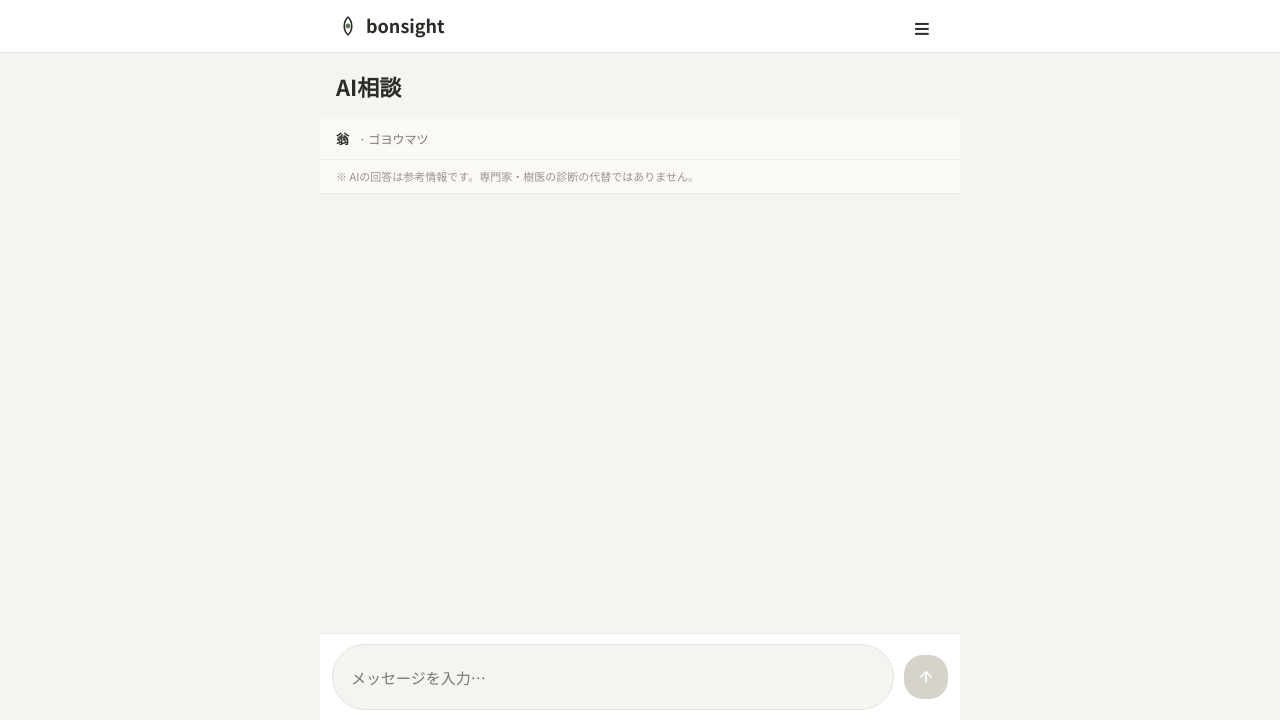
Test: S6AiChat › メッセージ送信 → sendChat が呼ばれ AI 吹き出しが追加される
Type "テスト質問" into the field with placeholder "メッセージを入力…" at [613, 677], box [349,655,877,699]
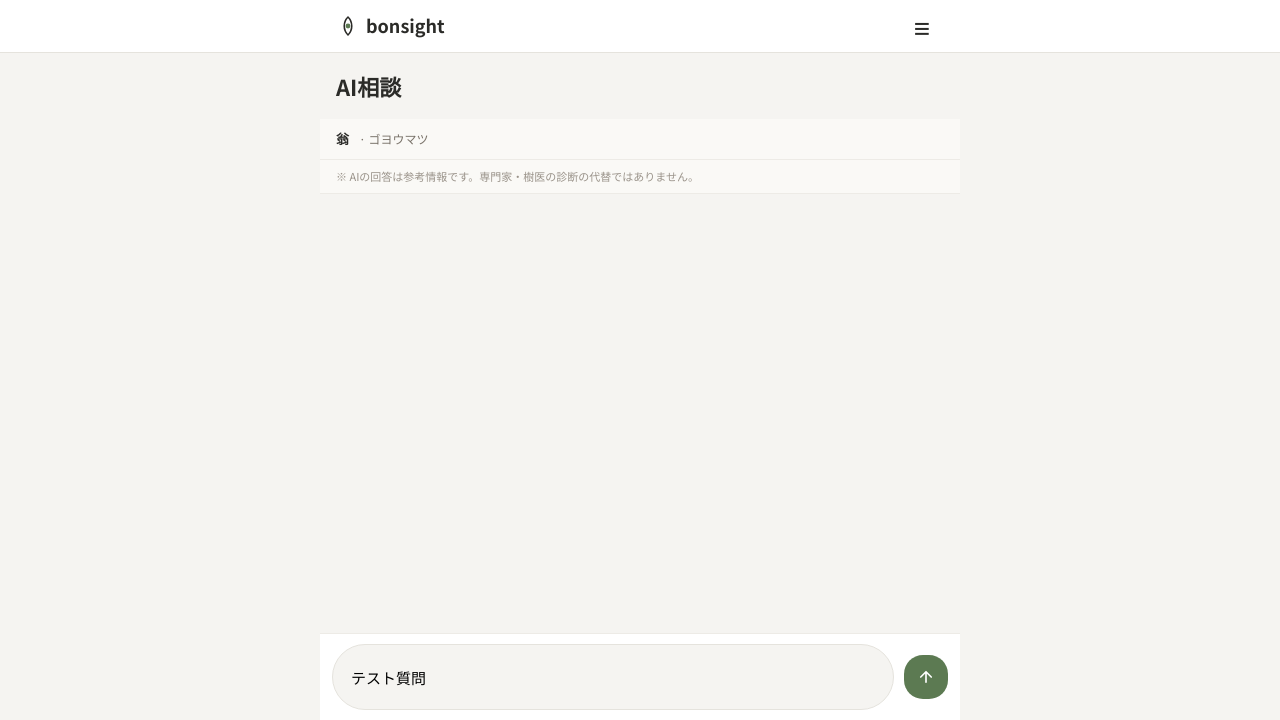
Click the button named "送信" at [926, 677], box [904,655,948,699]
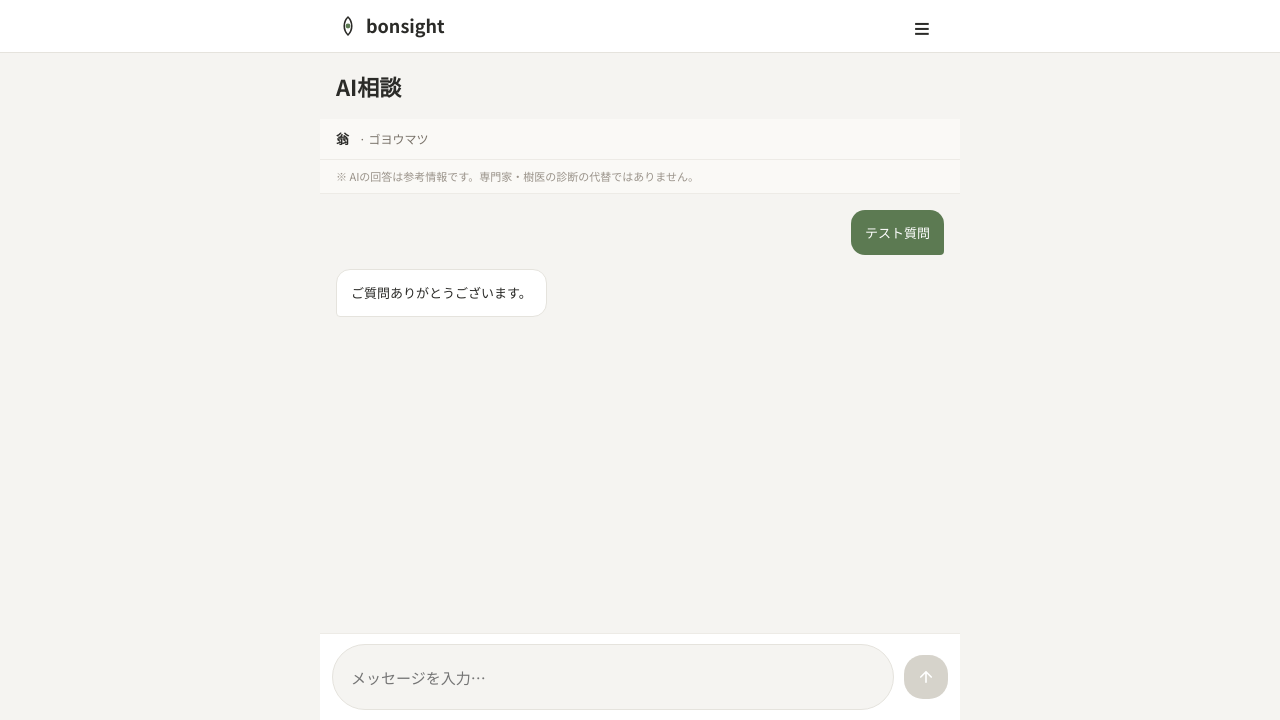
Expected: the text "テスト質問" is shown, [851,210,944,255]
Expected: the text "ご質問ありがとうございます。" is shown, [336,269,547,317]
